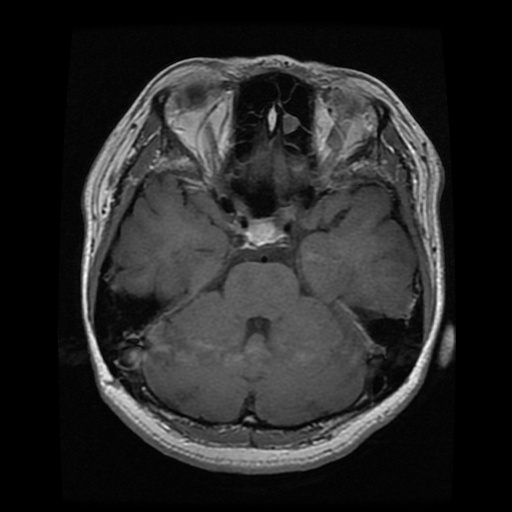pituitary: (245, 220, 281, 243)
